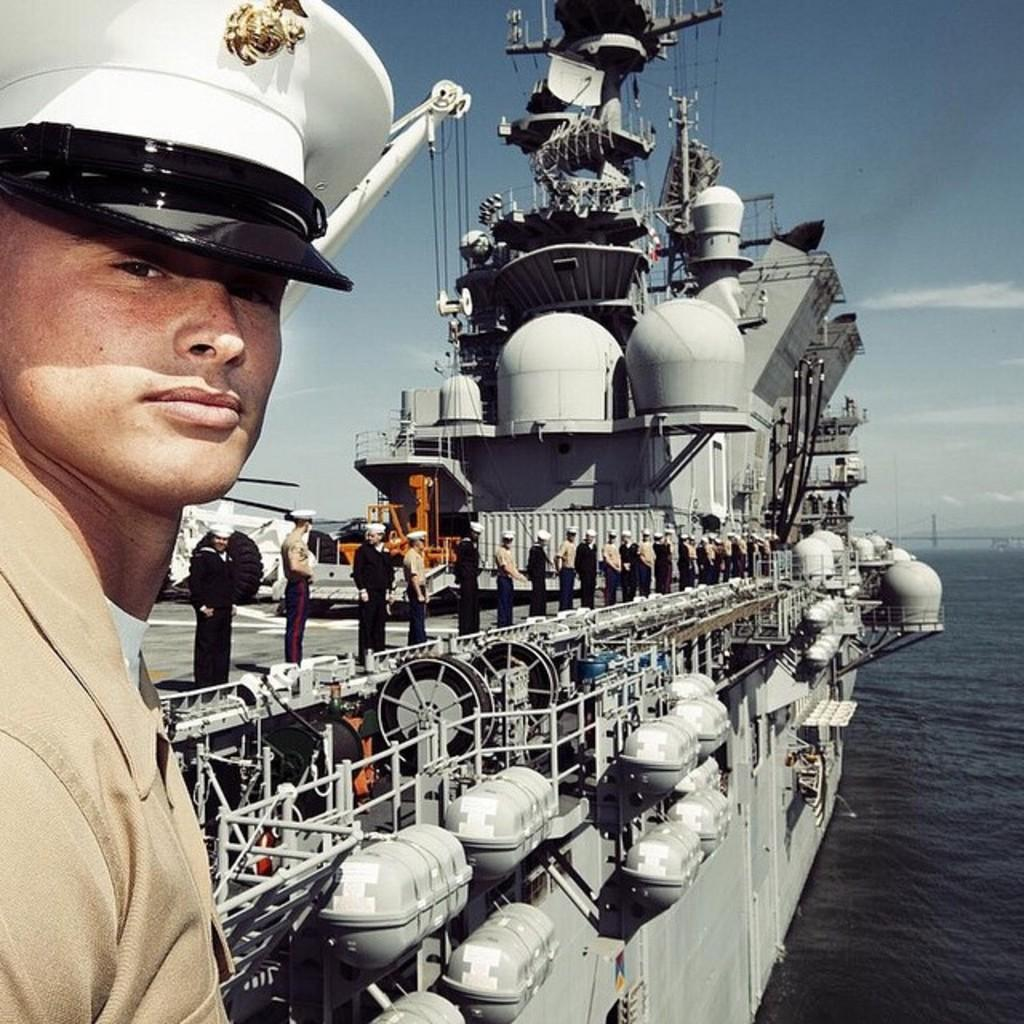Hat: (0, 0, 403, 292), (362, 522, 386, 544), (288, 510, 312, 531), (212, 523, 236, 537), (404, 534, 424, 550), (582, 530, 601, 542), (501, 532, 517, 544), (472, 523, 484, 537), (636, 531, 646, 545), (704, 535, 718, 545), (534, 530, 548, 538), (624, 531, 632, 545), (727, 532, 735, 544), (566, 530, 579, 536), (608, 532, 618, 538), (680, 534, 692, 539), (654, 534, 660, 537), (715, 543, 721, 545)
